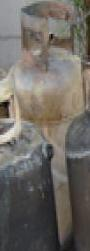cylinder: (1, 1, 90, 251)
